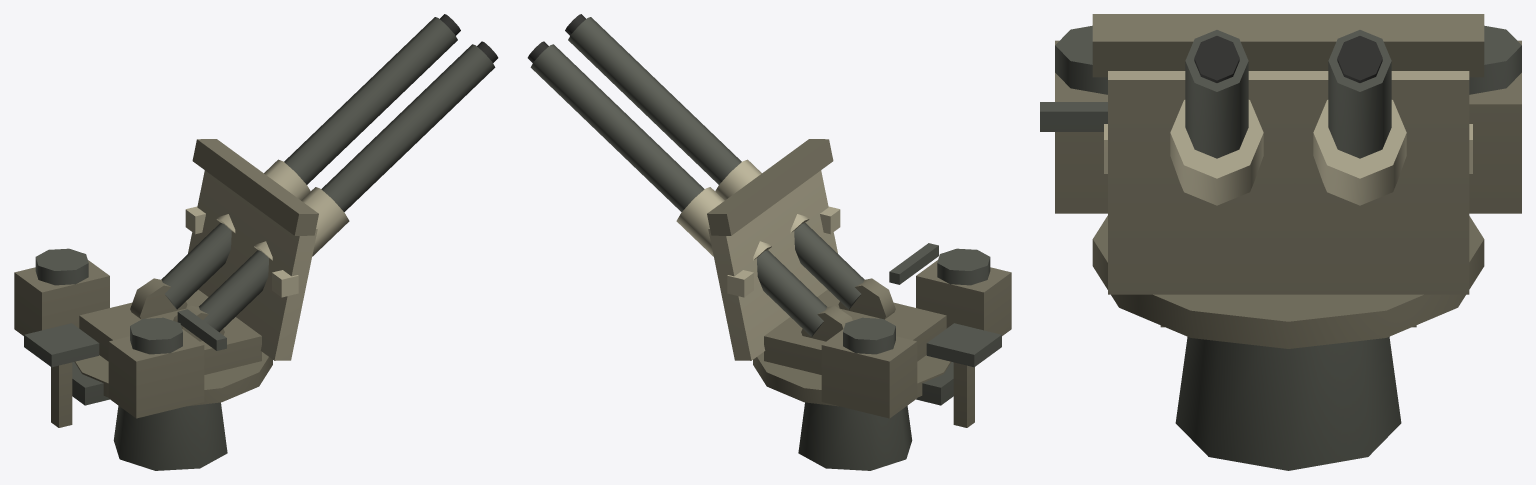
The picture shows the model from 3 angles, left to right: view 1: azimuth 30°, elevation 25°; view 2: azimuth 150°, elevation 25°; view 3: azimuth 270°, elevation 25°; orthographic projection. The views are drawn at different scales.
Parts seen in each view (by area): view 1: mesh; view 2: mesh; view 3: mesh.
Boxes of the visible parts, x1=… form: mesh: x1=14, y1=14, x2=498, y2=470; mesh: x1=527, y1=14, x2=1011, y2=470; mesh: x1=1040, y1=14, x2=1521, y2=470.
Bounding box in the file's own units: 12.91 × 9.72 × 6.4.
